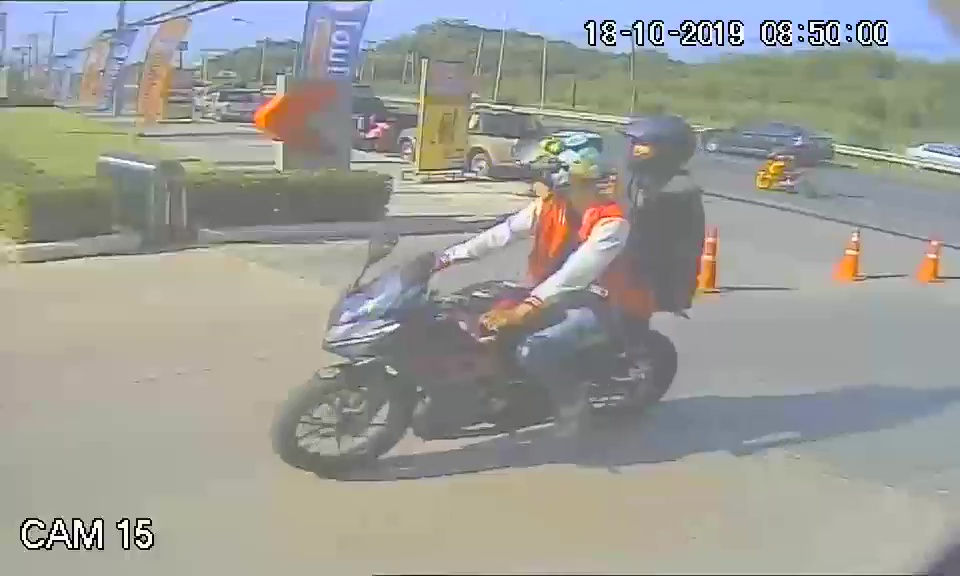motorcycle: (264, 255, 687, 473)
